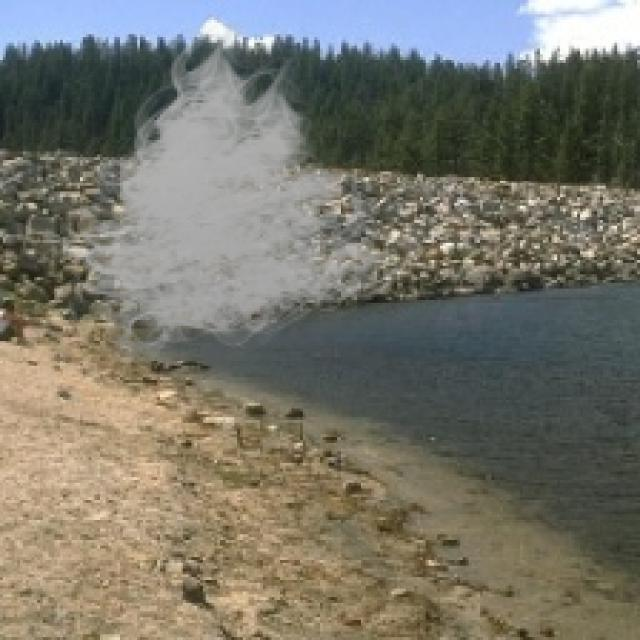smoke: (49, 23, 428, 371)
